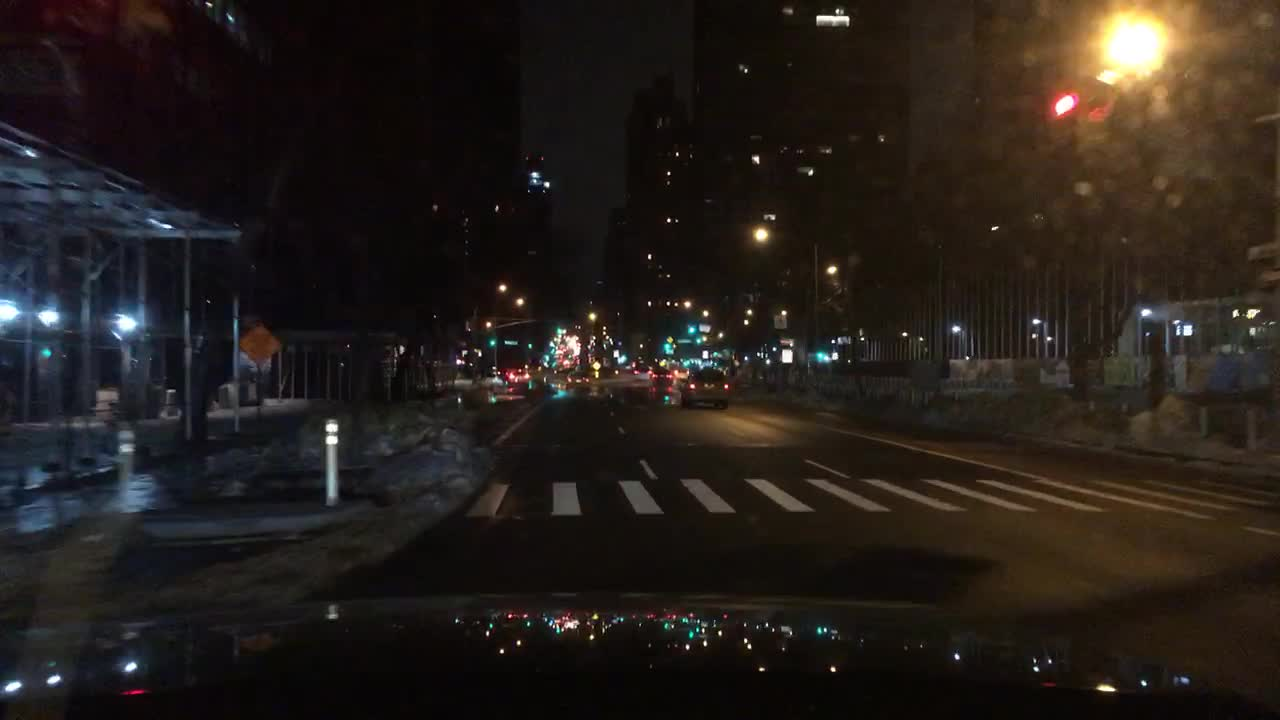car: (680, 363, 728, 410), (564, 370, 592, 390), (650, 365, 673, 386), (508, 369, 529, 382), (674, 364, 689, 381), (615, 366, 635, 375)
traffic light: (661, 339, 671, 355), (487, 338, 496, 353), (688, 322, 694, 336), (695, 334, 701, 346)
traffic sign: (236, 322, 279, 371), (1247, 240, 1277, 258), (1260, 267, 1279, 284), (772, 311, 787, 328), (504, 336, 517, 348), (591, 362, 601, 371)
